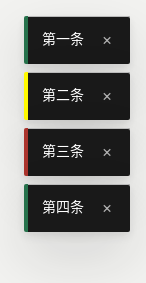
堆叠与自动消退 › 多条不同通知共存，每条独立成节点；关掉中间一条不影响其余
Check: the number of messages with class "ef-toast" is 4, box [24,16,130,64]; [24,72,130,120]; [24,128,130,176]; [24,184,130,232]
Check: the text "第一条" is shown, box [42,28,84,50]
Click the button "×" next to "第二条". click: (107,95)
box: [96,84,118,106]
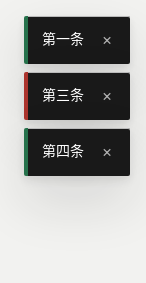
Check: the text "第一条" is shown, box [42,28,84,50]
Check: the text "第二条" is gone
Check: the number of messages with class "ef-toast" is 3, box [24,16,130,64]; [24,72,130,120]; [24,128,130,176]
